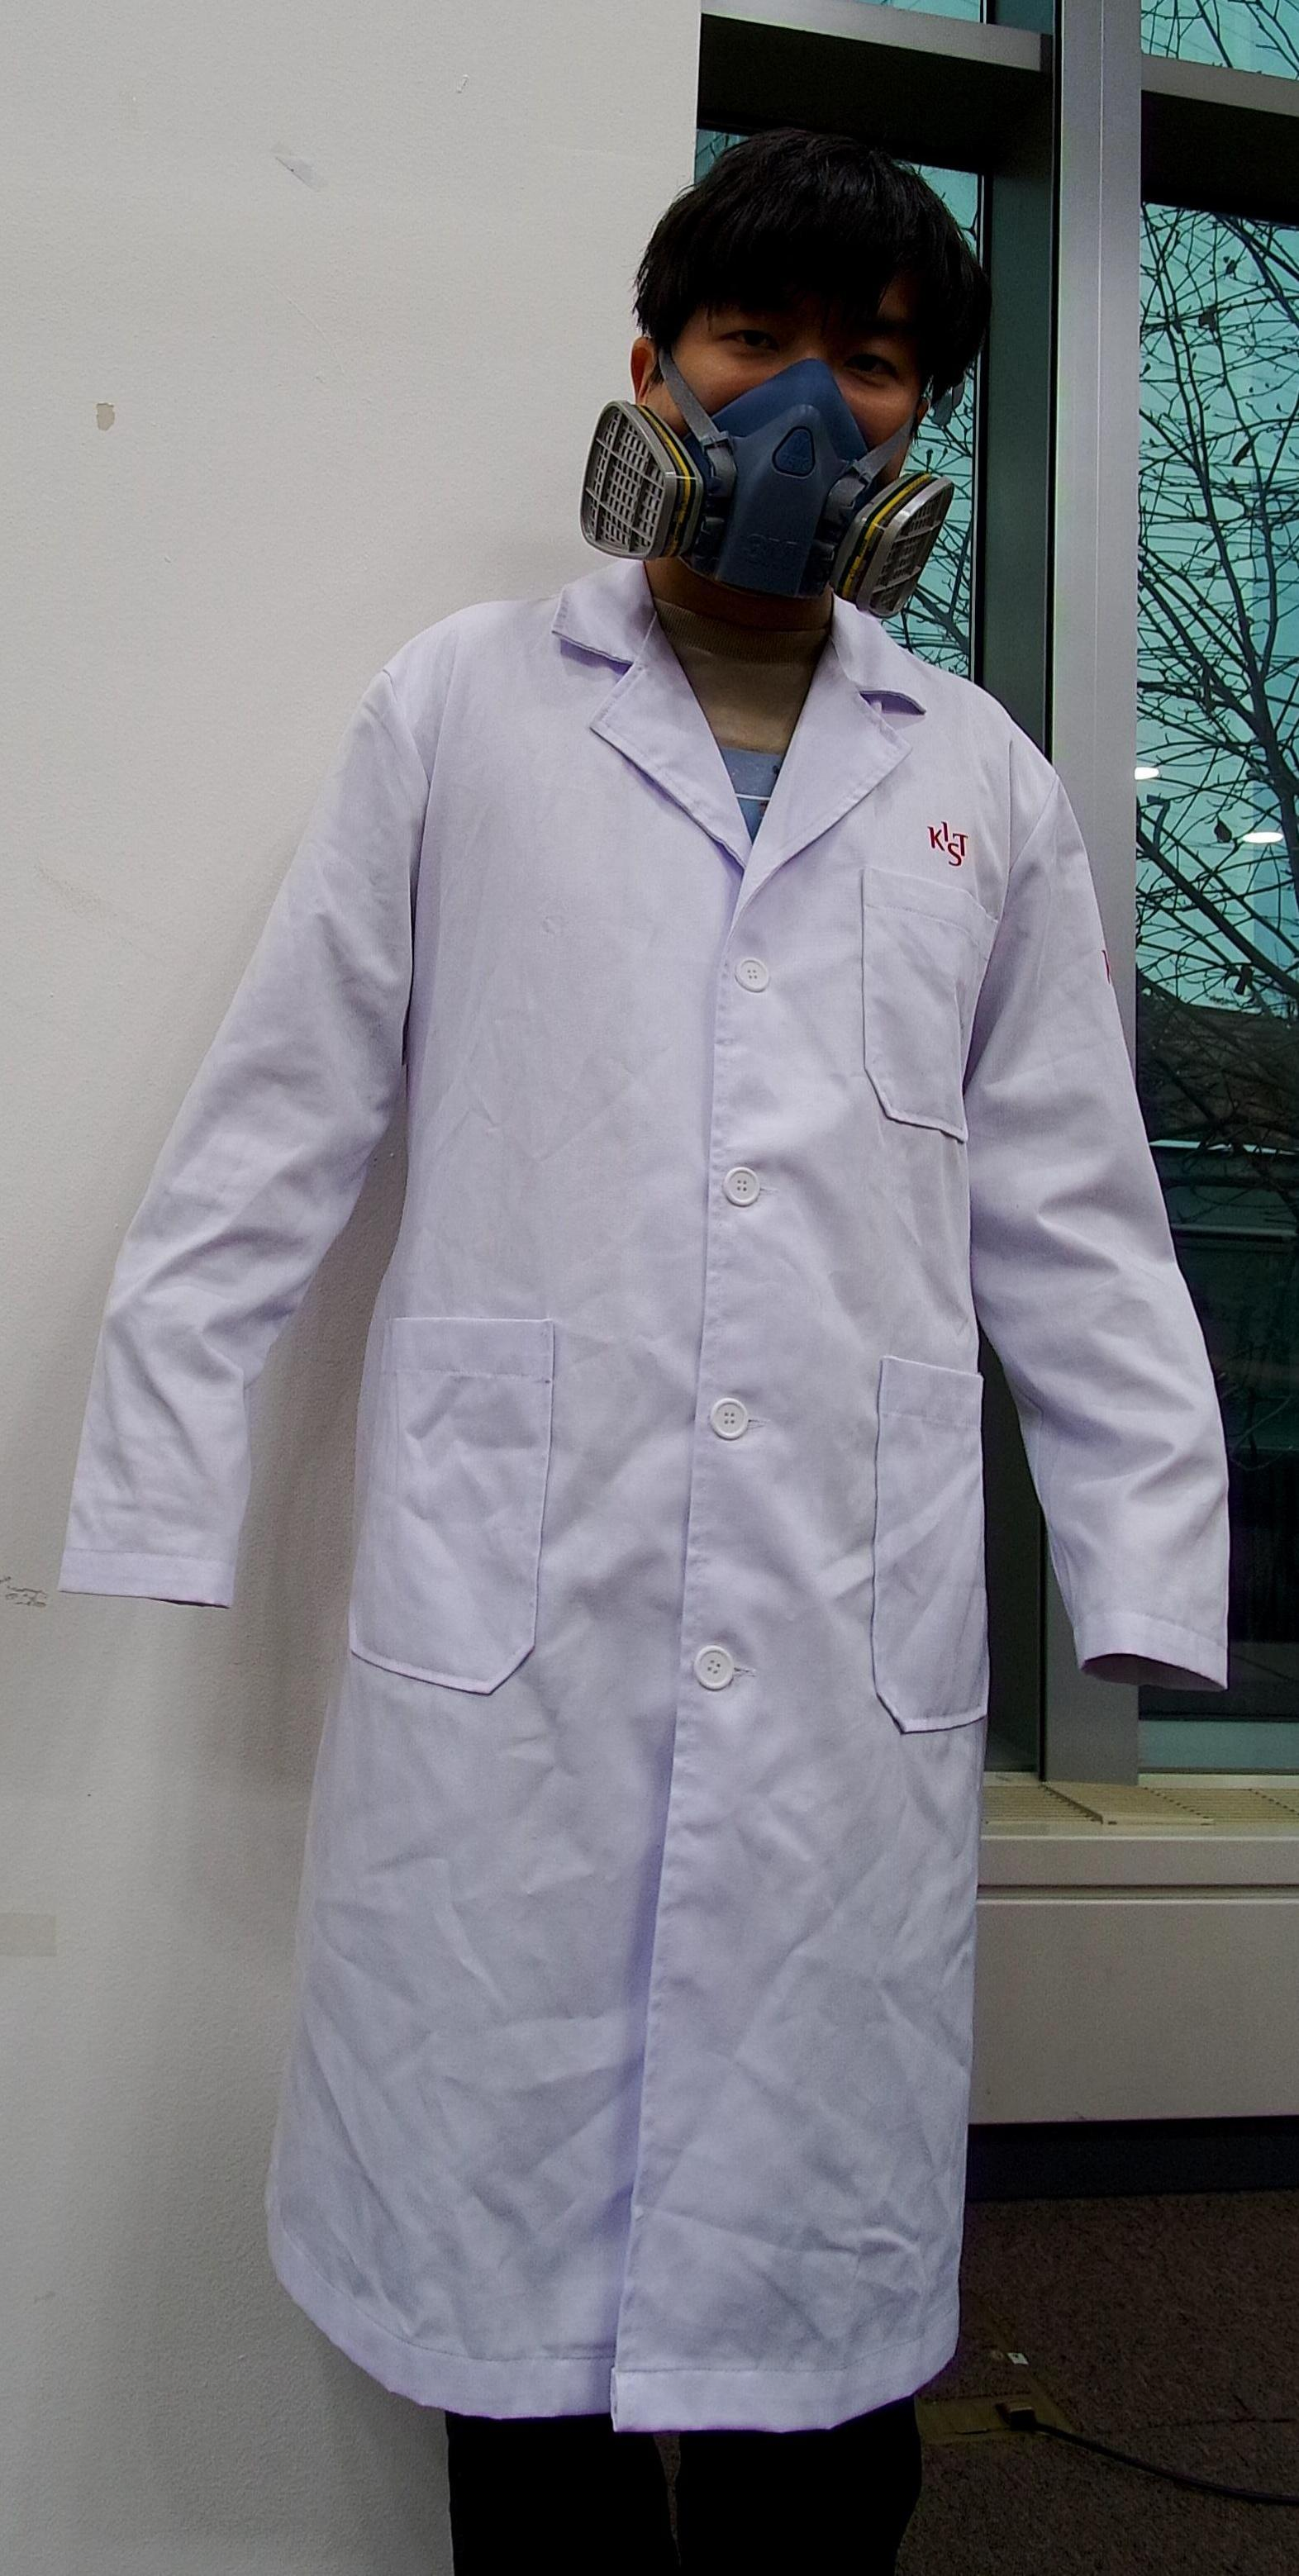lab_coat: (335, 616, 1007, 2367)
